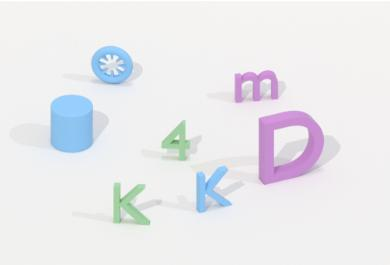0-KhoiTru: (47, 90, 99, 157)
0-TronLo: (87, 42, 137, 89)
4: (154, 115, 196, 166)
D: (252, 107, 329, 188)
K: (109, 179, 155, 230), (192, 164, 234, 216)
m: (228, 69, 281, 107)
